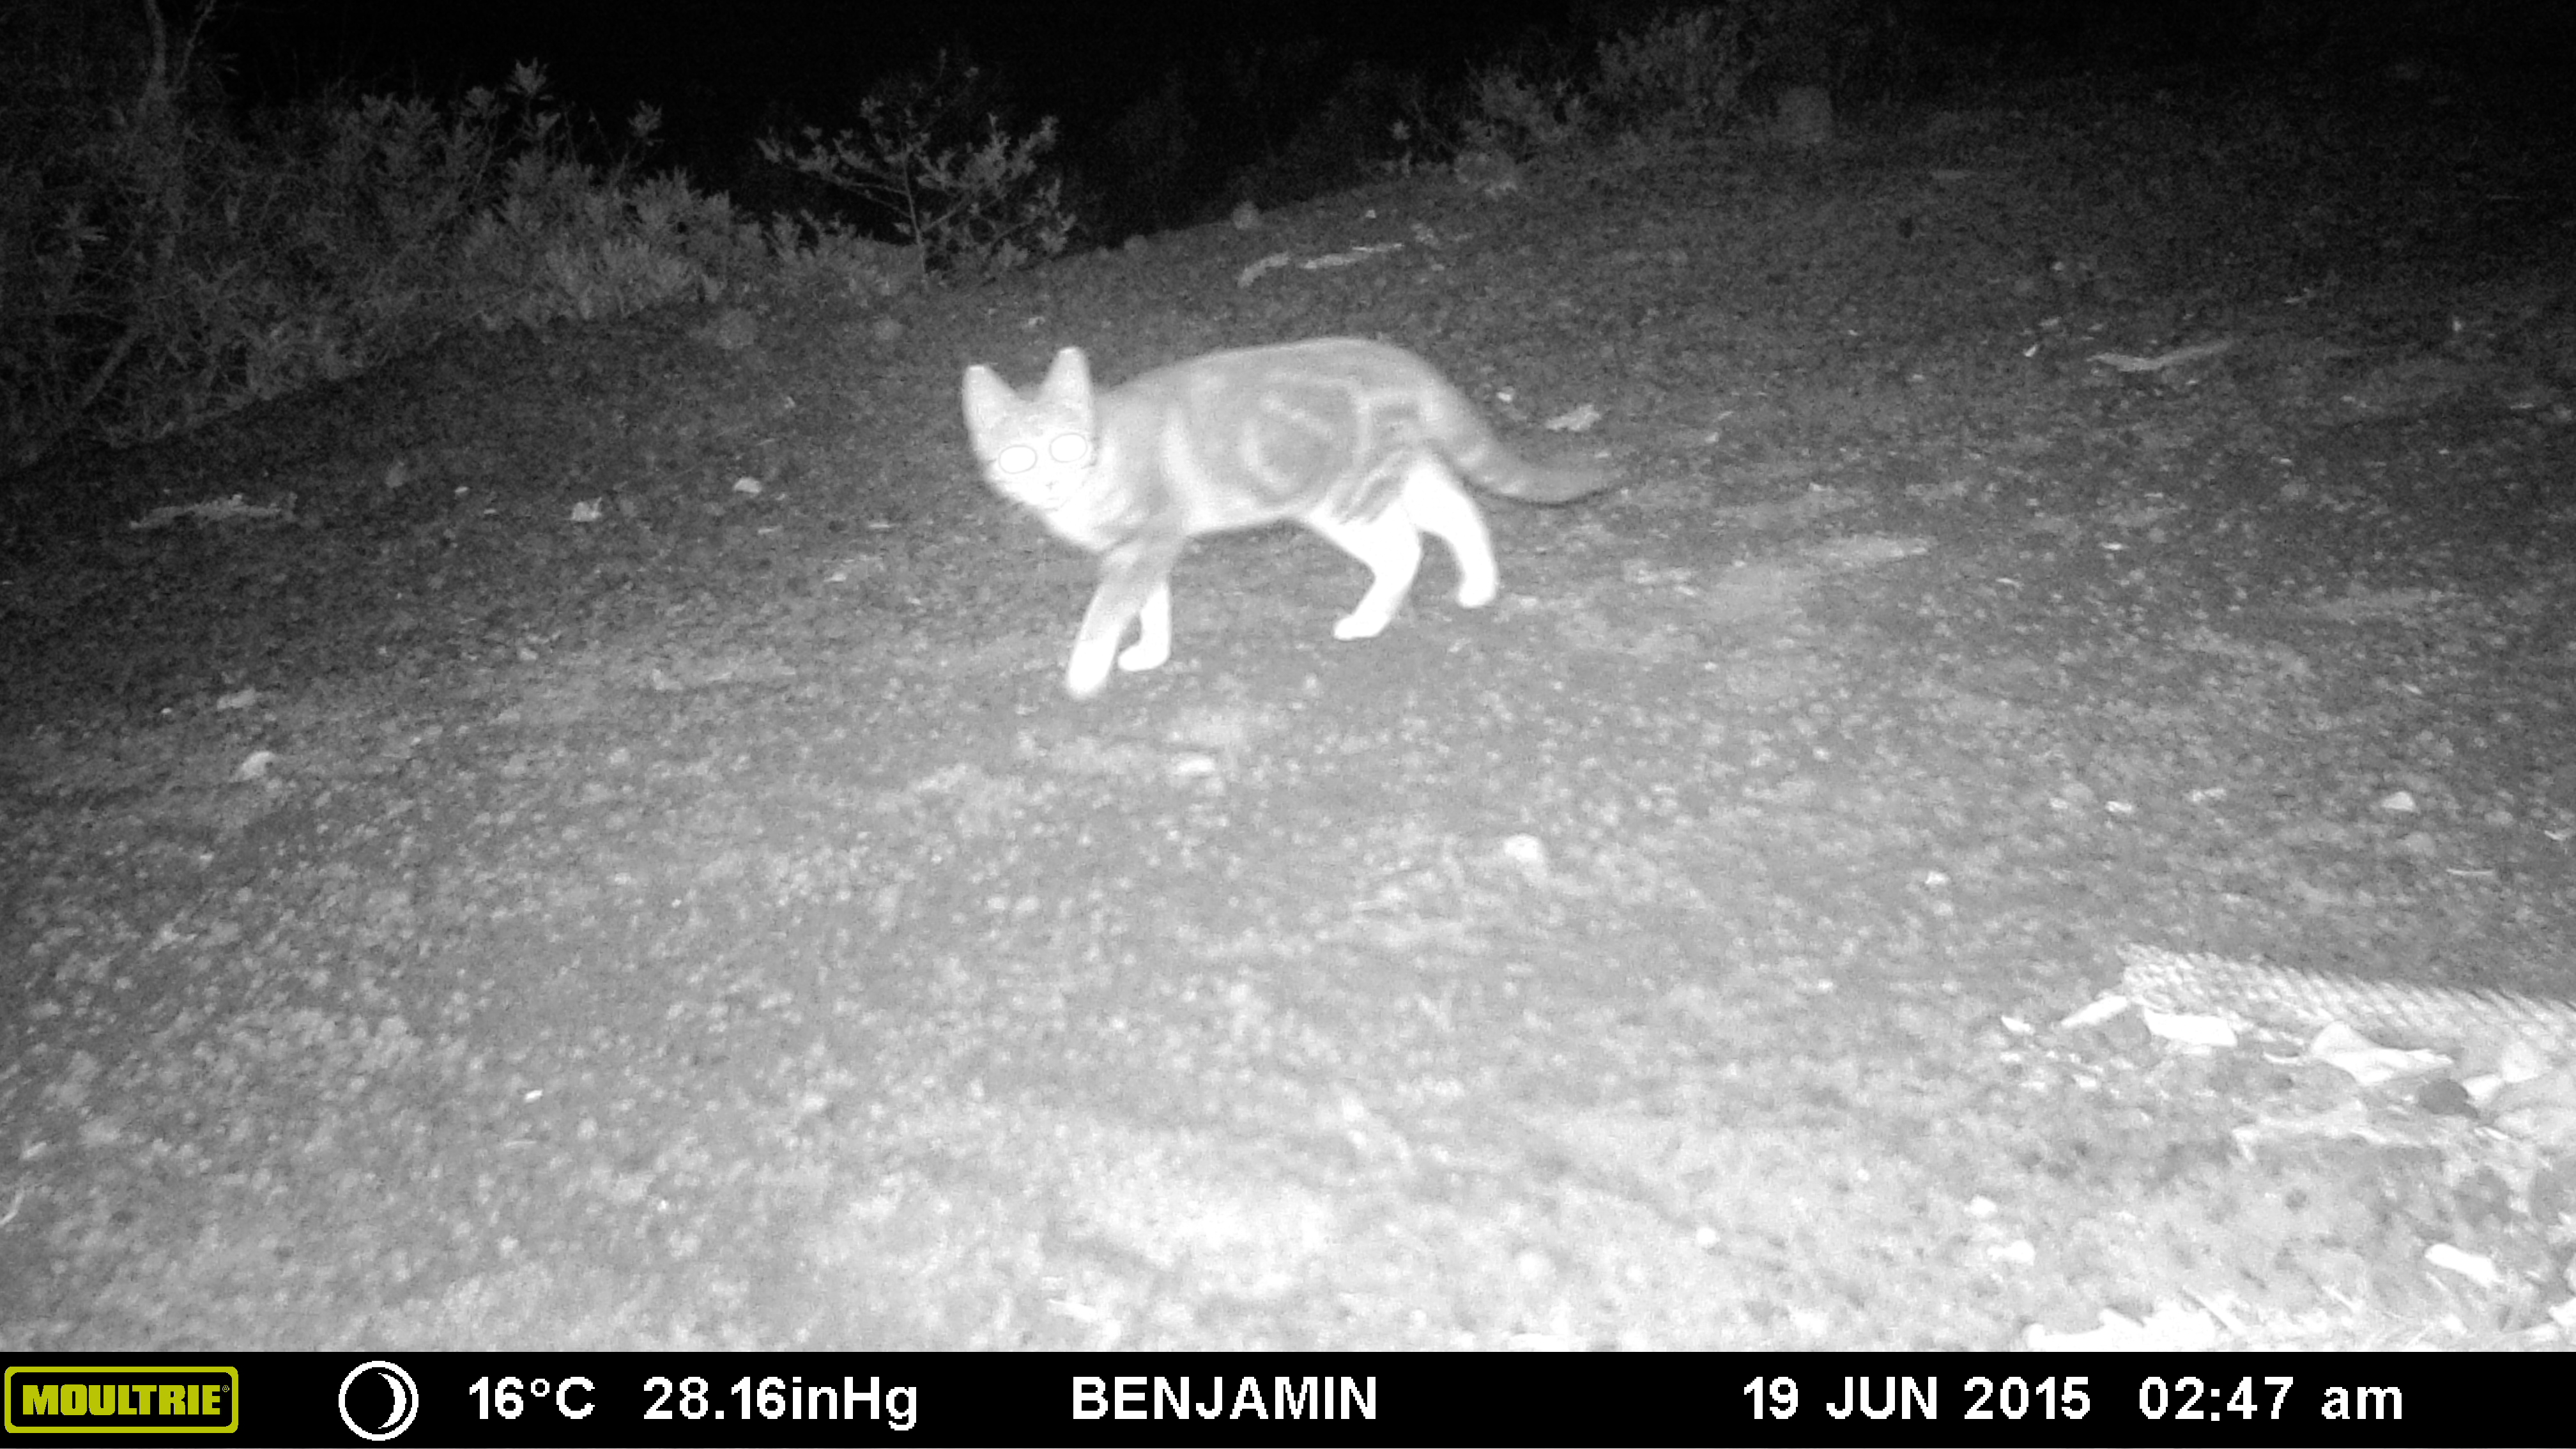cat: (952, 340, 1619, 692)
